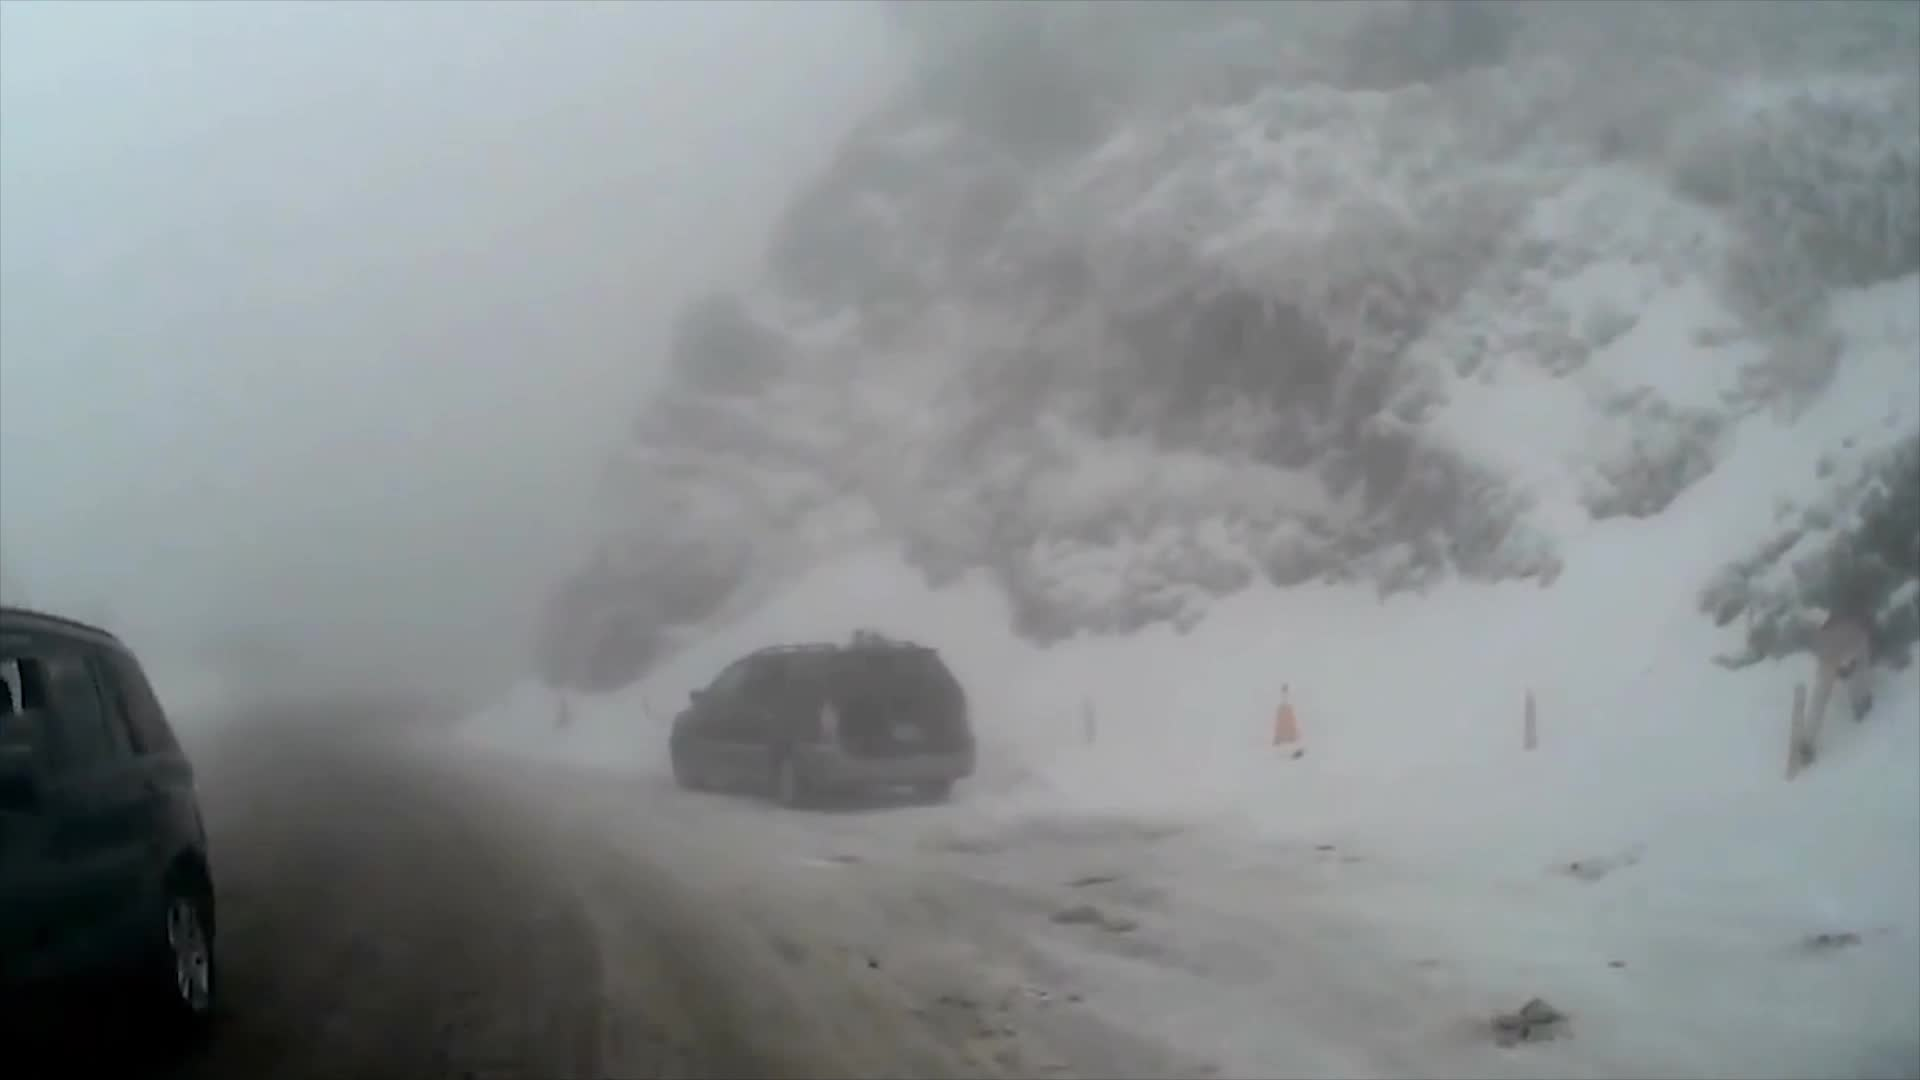vehicle: (0, 604, 222, 1080), (669, 640, 976, 806)
